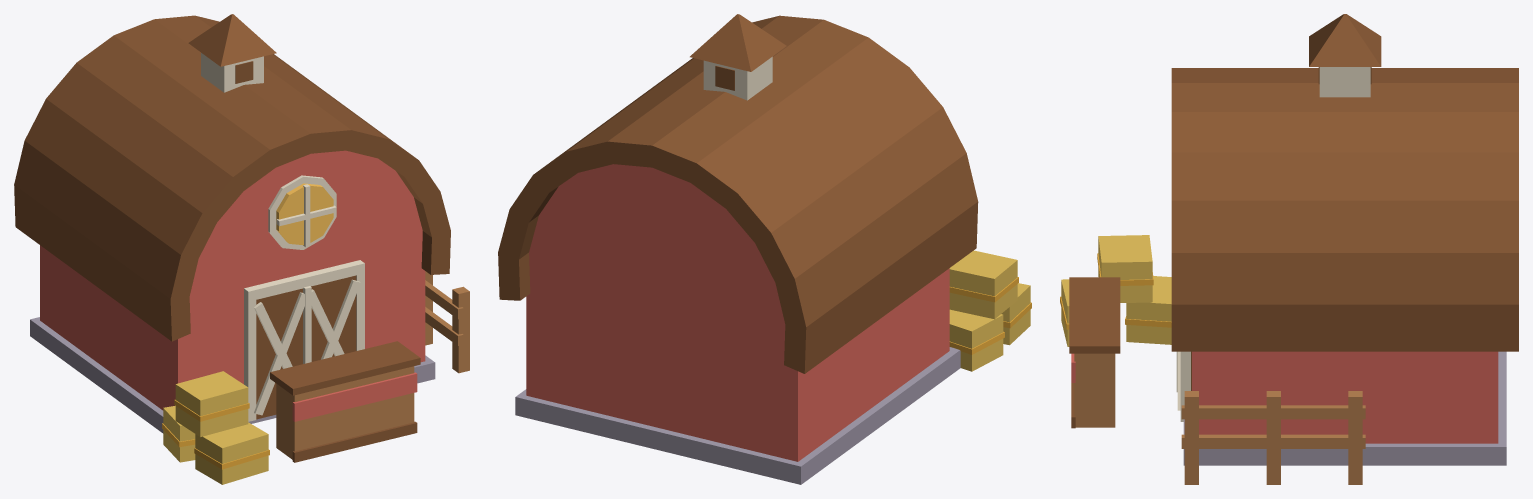
The model's file is shop_barn.glb.
3 views of the same model, side by side, from view 1: azimuth 30°, elevation 25°; view 2: azimuth 150°, elevation 25°; view 3: azimuth 270°, elevation 25° (orthographic). The views are drawn at different scales.
Visible parts, largest first — view 1: shop_barn, counter; view 2: shop_barn; view 3: shop_barn, counter.
Boxes of the visible parts, box(x1,y1,x2,y2) form: shop_barn: box(14, 14, 469, 484); counter: box(270, 341, 420, 462); shop_barn: box(498, 14, 1031, 484); shop_barn: box(1060, 14, 1518, 484); counter: box(1069, 277, 1120, 428).
Bounding box in the file's own units: 3.93 × 4.12 × 4.49.
